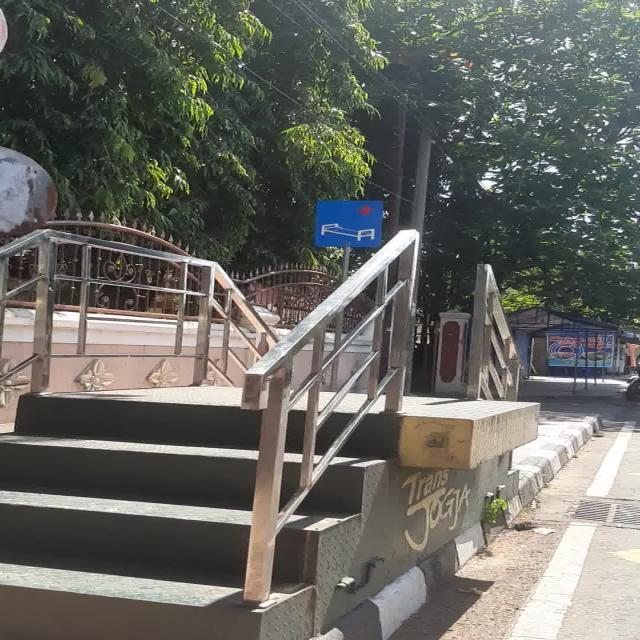Rumah Sakit: (316, 201, 382, 247)
